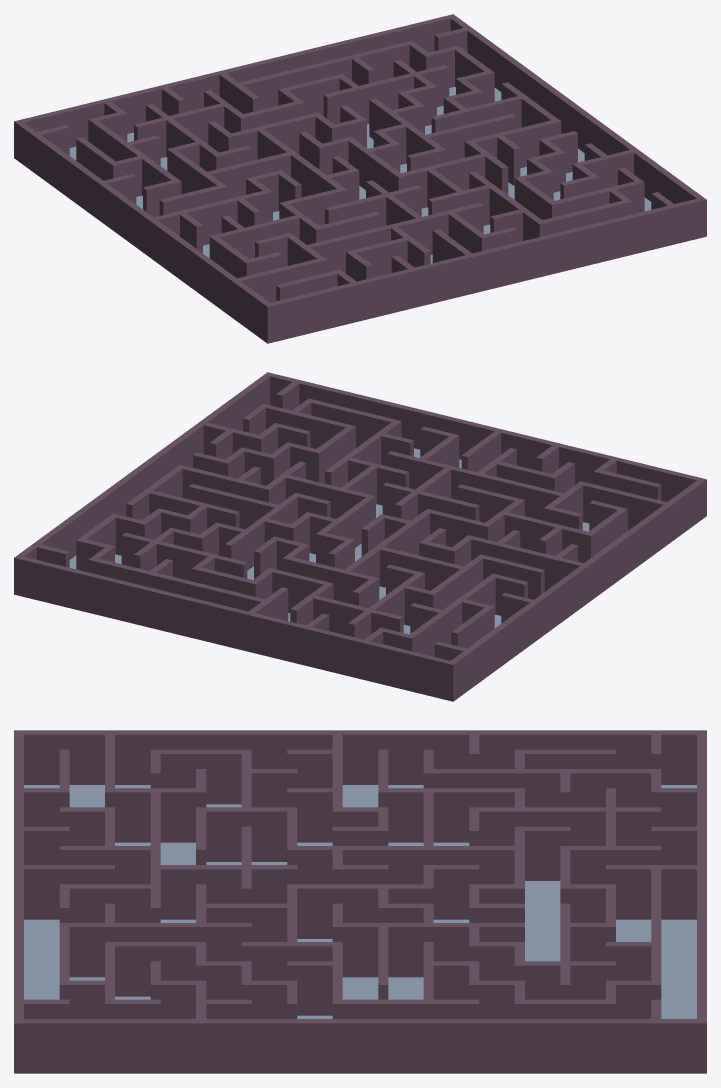
The model's file is Level43Ground.FBX.
3 views of the same model, one above another, from view 1: azimuth 30°, elevation 25°; view 2: azimuth 150°, elevation 25°; view 3: azimuth 270°, elevation 25° (orthographic). The views are drawn at different scales.
Parts seen in each view (by area): view 1: pPlane2; view 2: pPlane2; view 3: pPlane2.
Boxes of the visible parts, bbox=[...] form: pPlane2: bbox=[14, 14, 706, 343]; pPlane2: bbox=[14, 372, 706, 701]; pPlane2: bbox=[14, 730, 706, 1073].
Bounding box in the file's own units: 350 × 28 × 350.
